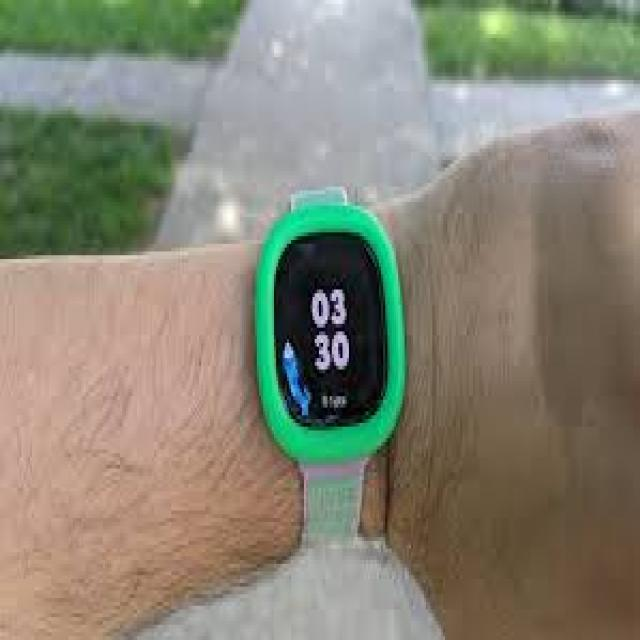objects: (255, 187, 405, 552)
